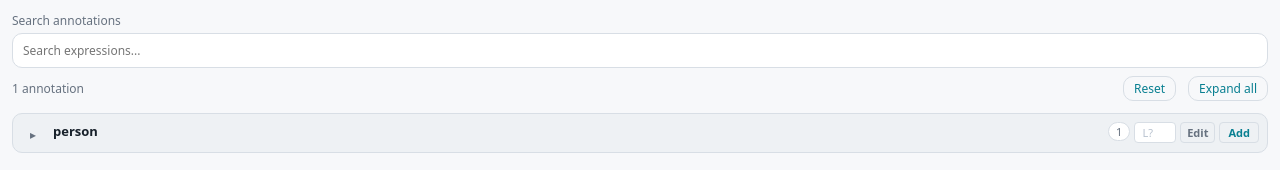
it: leaves the expression alone when the header edit is empty
Click the button named "Edit \"person\" expression" at (1198, 132), box [1180,122,1216,143]
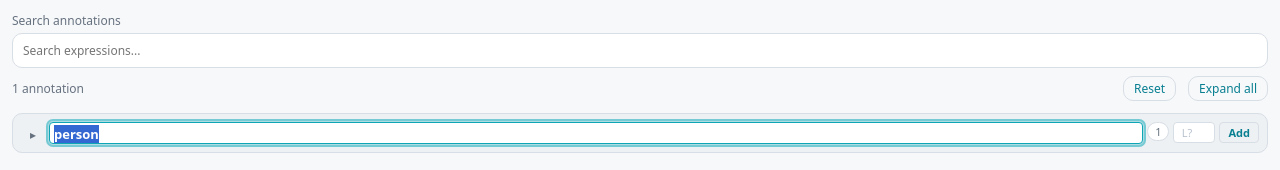
Clear the text box named "Expression" at (596, 133), box [49,122,1144,144]
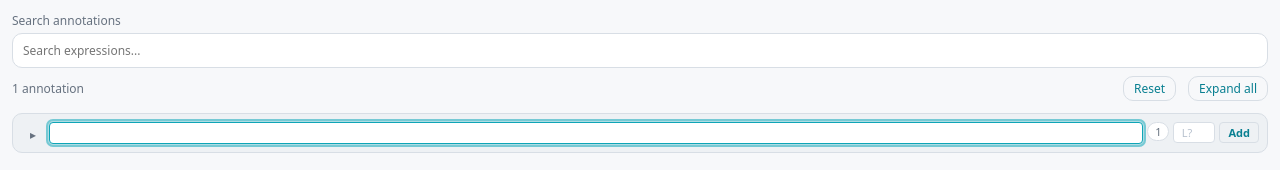
Leave the text box named "Expression", box [49,122,1144,144]
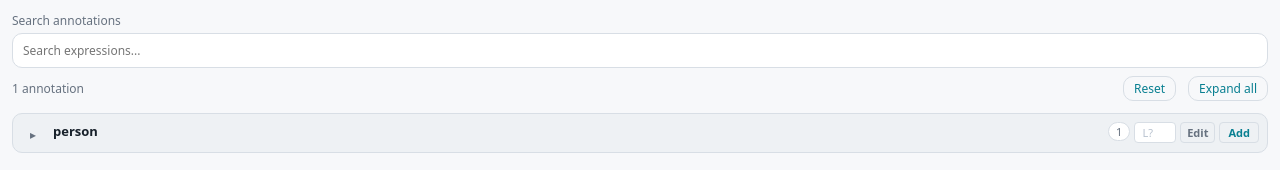
Check: the button "person" is shown, box [49,120,102,142]
